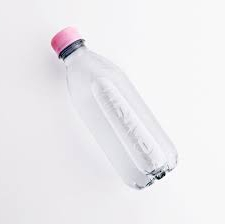plastic water bottle: (44, 22, 183, 198)
